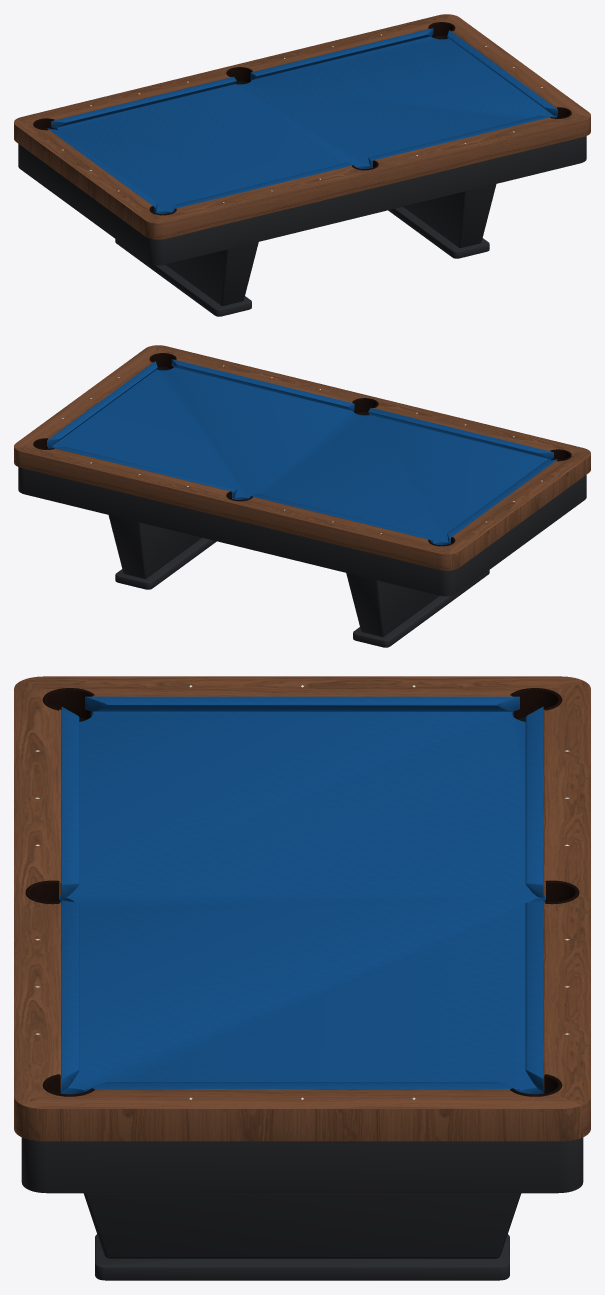
File: table.glb
3 renders of one model, top to bottom at view 1: azimuth 30°, elevation 25°; view 2: azimuth 150°, elevation 25°; view 3: azimuth 270°, elevation 25°, orthographic. The views are drawn at different scales.
Parts seen in each view (by area): view 1: Table_Cloth, Table_Rail, Table_Body, Cushion_0, Cushion_1, Pocket_Liners, Cushion_2, Cushion_3, Cushion_4, Cushion_5; view 2: Table_Cloth, Table_Rail, Table_Body, Cushion_4, Cushion_3, Pocket_Liners, Cushion_2, Cushion_1, Cushion_0, Cushion_5; view 3: Table_Cloth, Table_Rail, Table_Body, Cushion_5, Pocket_Liners, Cushion_1, Cushion_3, Cushion_0, Cushion_4, Cushion_2.
Boxes of the visible parts, bbox=[...] form: Table_Cloth: bbox=[53, 36, 556, 214]; Table_Rail: bbox=[14, 14, 590, 239]; Table_Body: bbox=[18, 136, 586, 316]; Cushion_0: bbox=[51, 77, 236, 127]; Cushion_1: bbox=[250, 28, 433, 79]; Pocket_Liners: bbox=[33, 22, 571, 215]; Cushion_2: bbox=[447, 30, 557, 115]; Cushion_3: bbox=[368, 115, 553, 167]; Cushion_4: bbox=[171, 162, 354, 212]; Cushion_5: bbox=[47, 128, 157, 212]; Table_Cloth: bbox=[48, 367, 551, 545]; Table_Rail: bbox=[14, 345, 590, 570]; Table_Body: bbox=[18, 467, 586, 647]; Cushion_4: bbox=[368, 408, 553, 458]; Cushion_3: bbox=[171, 359, 354, 410]; Pocket_Liners: bbox=[33, 353, 571, 546]; Cushion_2: bbox=[47, 361, 157, 446]; Cushion_1: bbox=[51, 446, 236, 498]; Cushion_0: bbox=[250, 493, 433, 543]; Cushion_5: bbox=[447, 459, 557, 543]; Table_Cloth: bbox=[60, 711, 544, 1094]; Table_Rail: bbox=[14, 676, 590, 1141]; Table_Body: bbox=[21, 1137, 583, 1280]; Cushion_5: bbox=[85, 696, 519, 711]; Pocket_Liners: bbox=[25, 688, 579, 1096]; Cushion_1: bbox=[525, 900, 543, 1091]; Cushion_3: bbox=[61, 900, 79, 1091]; Cushion_0: bbox=[525, 706, 543, 897]; Cushion_4: bbox=[61, 706, 79, 897]; Cushion_2: bbox=[85, 1082, 519, 1091].
Size of the model in its own units: 2.91 by 0.8039 by 1.64.
Materials: 7 (3 with a texture image).
